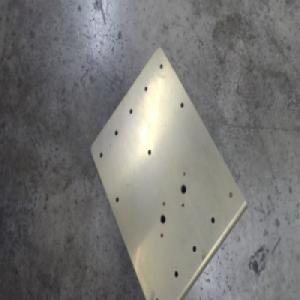MetalSheet: (89, 45, 249, 300)
